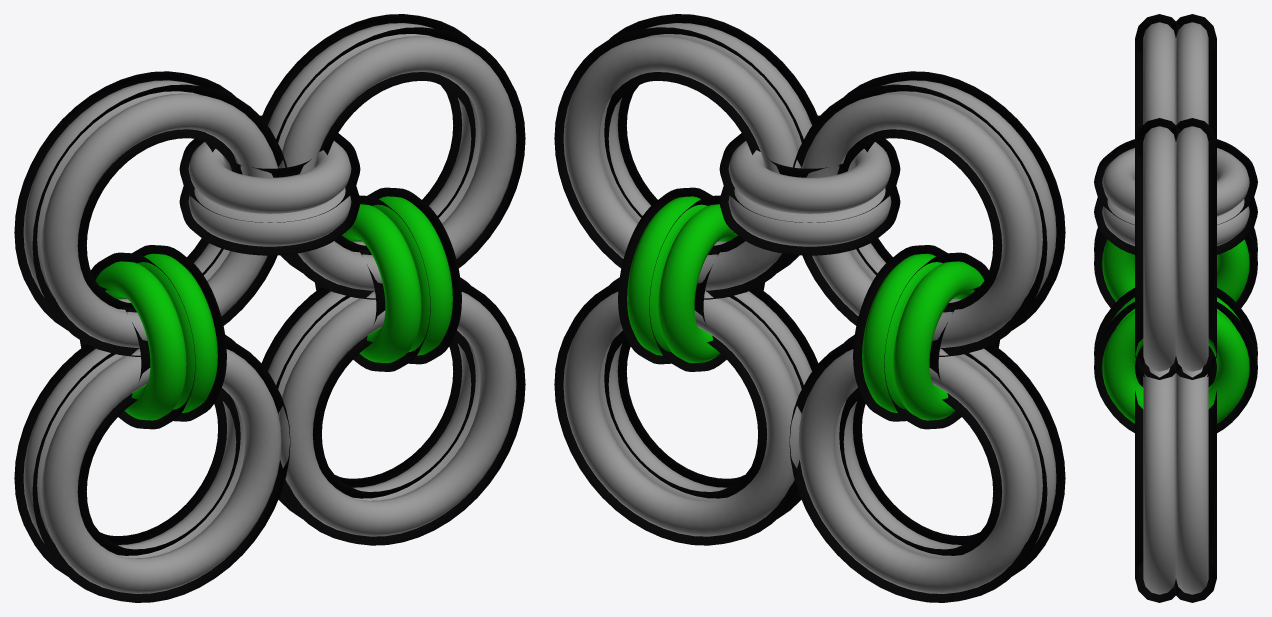
Rendered from japanese_8_in_2_step_05.glb.
The picture shows the model from 3 angles, left to right: view 1: azimuth 30°, elevation 25°; view 2: azimuth 150°, elevation 25°; view 3: azimuth 270°, elevation 25°; orthographic projection. The views are drawn at different scales.
Visible parts, largest first — view 1: Torus AR 6.003, Torus AR 6.001, Torus AR 6.024, Torus AR 6.032, Torus AR 6.004, Torus AR 6.019, Torus AR 6.027, Torus AR 6.002, Torus AR 3.003, Torus AR 3.042, Torus AR 3.002, Torus AR 3.041 (+2 smaller); view 2: Torus AR 6.004, Torus AR 6.002, Torus AR 6.019, Torus AR 6.027, Torus AR 6.003, Torus AR 6.024, Torus AR 6.032, Torus AR 6.001, Torus AR 3.003, Torus AR 3.042, Torus AR 3.002, Torus AR 3.041 (+2 smaller); view 3: Torus AR 6.027, Torus AR 6.032, Torus AR 6.001, Torus AR 6.002, Torus AR 3.001, Torus AR 3.042, Torus AR 6.019, Torus AR 6.024, Torus AR 3.004, Torus AR 3.041, Torus AR 3.002.
Part boxes in pixels (x1,y1,x2,y2): Torus AR 6.003: (32,339,290,602); Torus AR 6.001: (276,281,525,545); Torus AR 6.024: (32,84,286,356); Torus AR 6.032: (276,27,525,299); Torus AR 6.004: (14,334,245,576); Torus AR 6.019: (14,71,238,330); Torus AR 6.027: (261,14,480,272); Torus AR 6.002: (261,277,480,518); Torus AR 3.003: (80,252,195,429); Torus AR 3.042: (179,115,360,222); Torus AR 3.002: (315,195,430,371); Torus AR 3.041: (179,186,360,255); Torus AR 6.004: (789,339,1047,602); Torus AR 6.002: (554,281,803,545); Torus AR 6.019: (793,84,1047,356); Torus AR 6.027: (554,27,803,299); Torus AR 6.003: (834,334,1065,576); Torus AR 6.024: (841,71,1065,330); Torus AR 6.032: (599,14,818,272); Torus AR 6.001: (599,277,818,518); Torus AR 3.003: (884,252,999,429); Torus AR 3.042: (719,115,900,222); Torus AR 3.002: (649,195,764,371); Torus AR 3.041: (719,186,900,255); Torus AR 6.027: (1171,118,1216,379); Torus AR 6.032: (1135,118,1180,379); Torus AR 6.001: (1135,367,1180,602); Torus AR 6.002: (1171,367,1216,602); Torus AR 3.001: (1094,301,1257,432); Torus AR 3.042: (1094,139,1257,224); Torus AR 6.019: (1171,14,1216,141); Torus AR 6.024: (1135,14,1180,141); Torus AR 3.004: (1094,233,1257,307); Torus AR 3.041: (1094,197,1257,254); Torus AR 3.002: (1094,288,1257,388).
Size of the model in its own units: 6.2 by 6.2 by 2.
